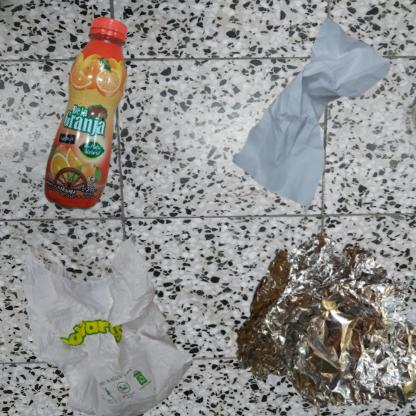aluminio: (213, 213, 416, 416)
bolsa: (10, 213, 217, 416)
botella: (10, 10, 221, 290)
papel: (213, 10, 414, 229)
